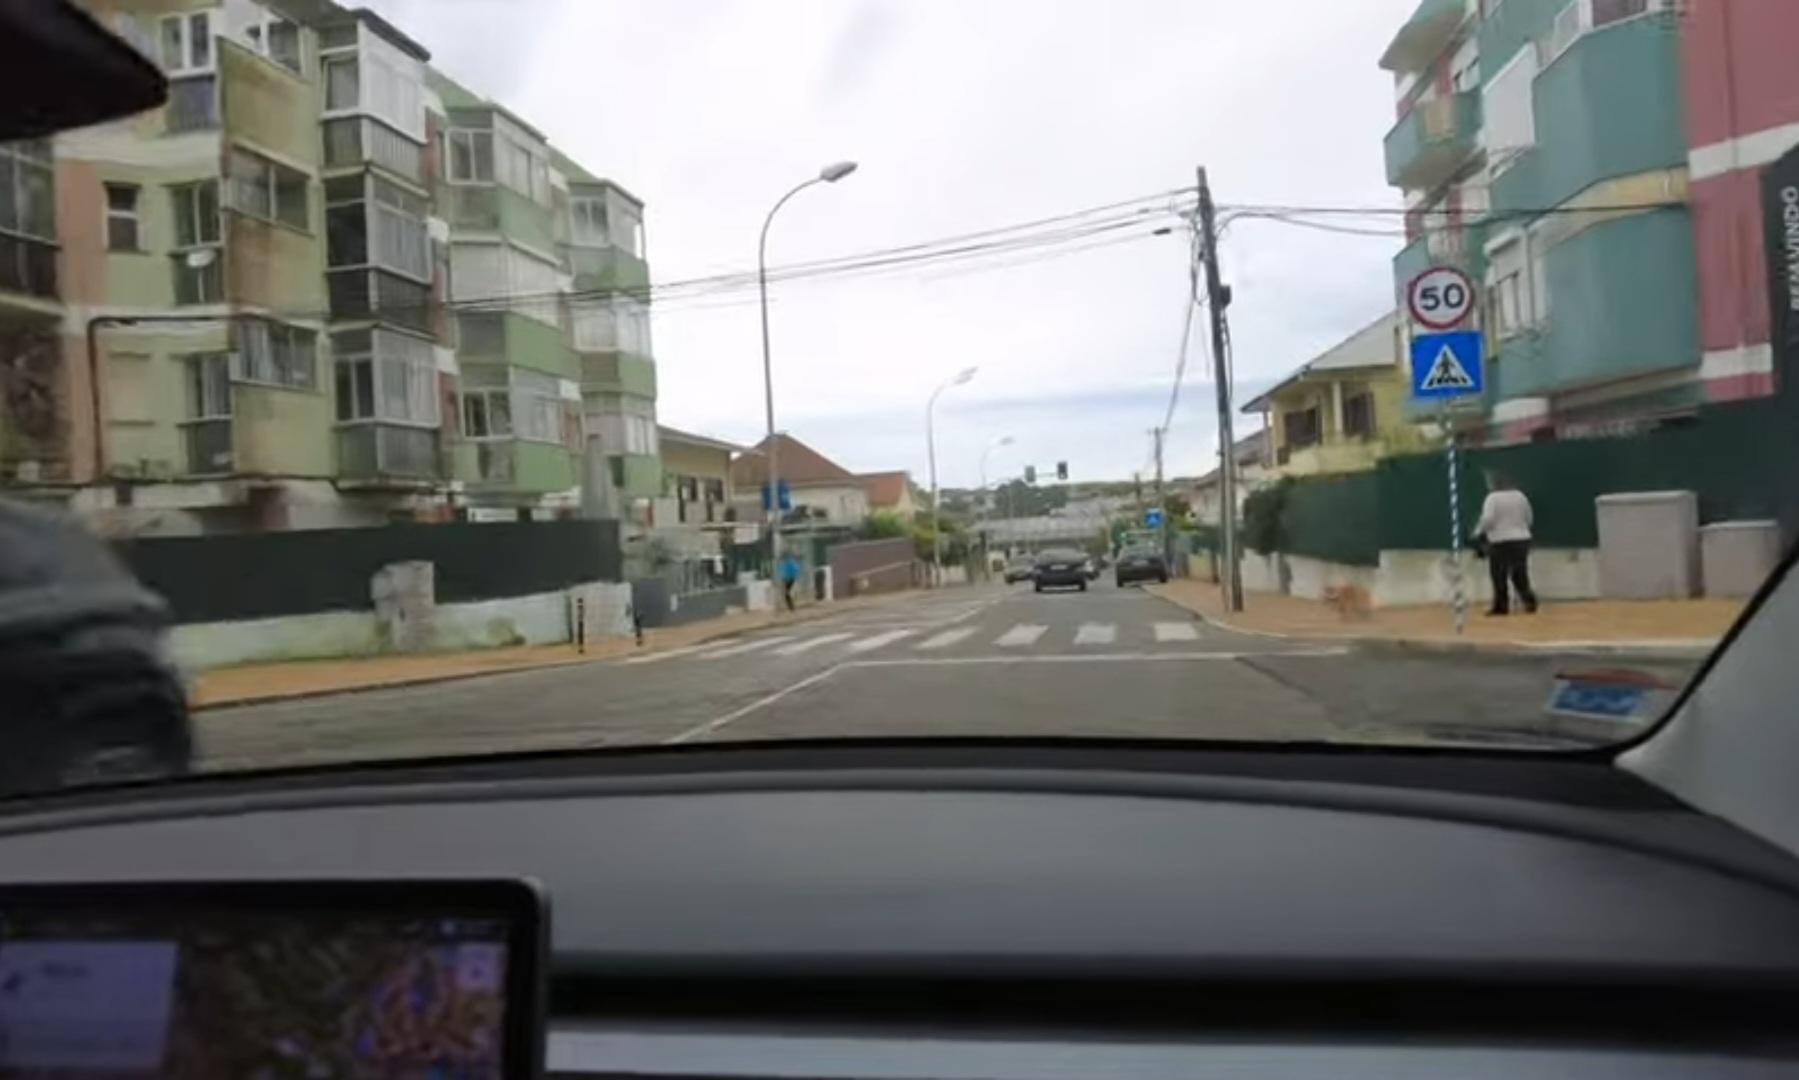limite de velocidade: (1410, 255, 1480, 339)
passagem para peoes: (1415, 339, 1485, 410)
